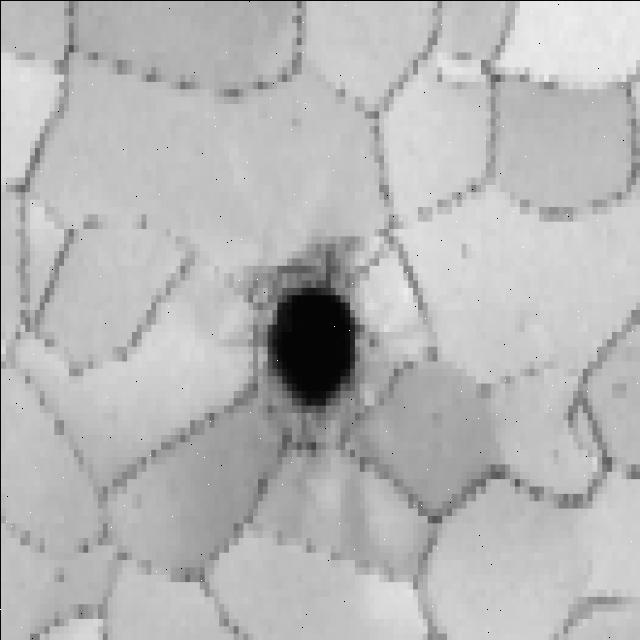good_void: (230, 234, 381, 440)
